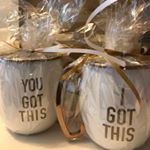cups: (52, 53, 150, 147)
